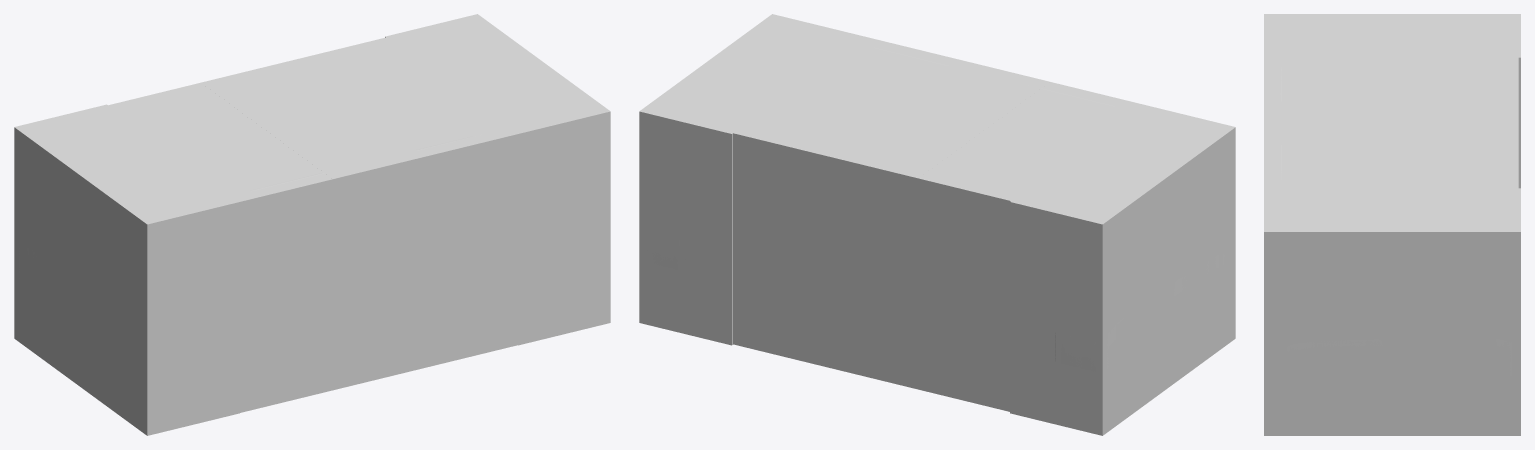
Rendered from leather_sofa.glb.
3 renders of one model, left to right at view 1: azimuth 30°, elevation 25°; view 2: azimuth 150°, elevation 25°; view 3: azimuth 270°, elevation 25°, orthographic. The views are drawn at different scales.
Parts seen in each view (by area): view 1: SofaLeather_0007_COL, SofaLeather_0007; view 2: SofaLeather_0007_COL, SofaLeather_0007; view 3: SofaLeather_0007_COL, SofaLeather_0007.
Part boxes in pixels (left/top/right/bottom): SofaLeather_0007_COL: left=14, top=14, right=610, bottom=435; SofaLeather_0007: left=19, top=245, right=136, bottom=366; SofaLeather_0007_COL: left=639, top=14, right=1235, bottom=435; SofaLeather_0007: left=646, top=232, right=1224, bottom=371; SofaLeather_0007_COL: left=1264, top=14, right=1520, bottom=435; SofaLeather_0007: left=1285, top=336, right=1511, bottom=376.
Size of what is drawn, in the model's own units: 1.93 by 0.843 by 0.9618.
Materials: 2 (2 with a texture image).
